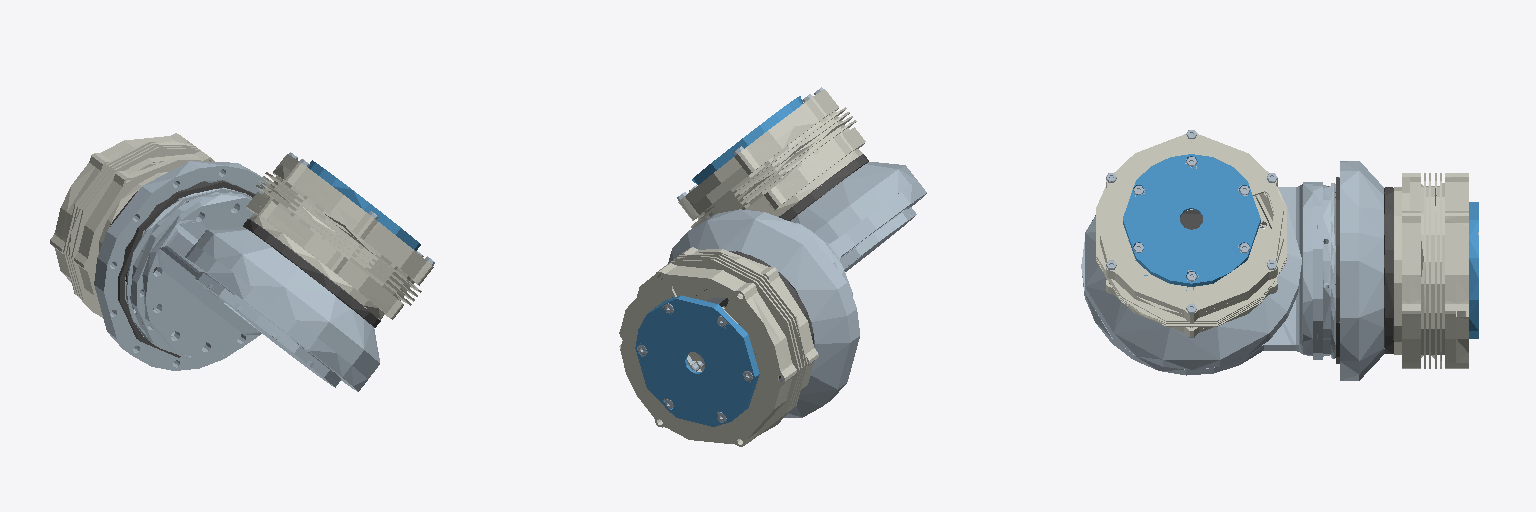
The picture shows the model from 3 angles: view 1: azimuth 30°, elevation 25°; view 2: azimuth 150°, elevation 25°; view 3: azimuth 270°, elevation 25°; orthographic projection.
Bounding box in the file's own units: 0.1431 × 0.1431 × 0.2015.
Materials: 1 (1 with a texture image).